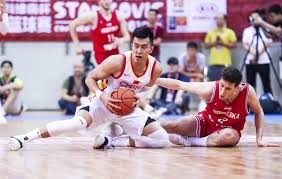falling: (157, 62, 270, 148)
